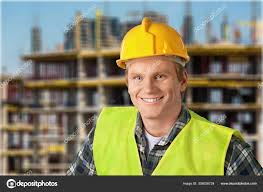hard hat: (115, 16, 190, 65)
high-vis: (92, 105, 242, 175)
